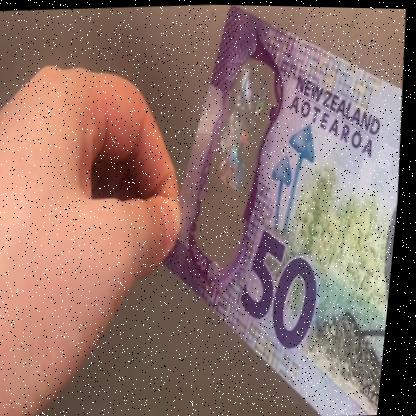50B: (195, 61, 280, 251)
